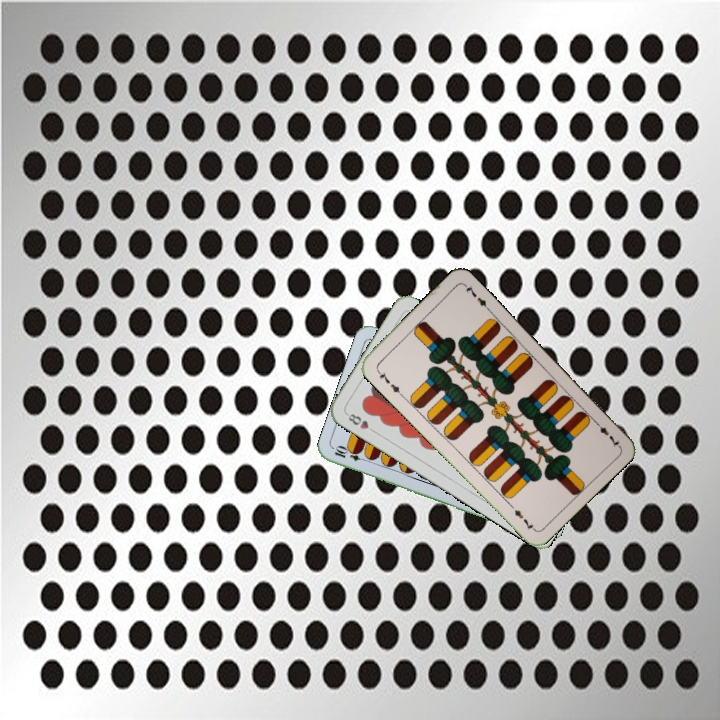E10: (330, 443, 371, 464)
E7: (590, 416, 622, 450), (372, 365, 404, 398)
H8: (342, 409, 379, 436)
